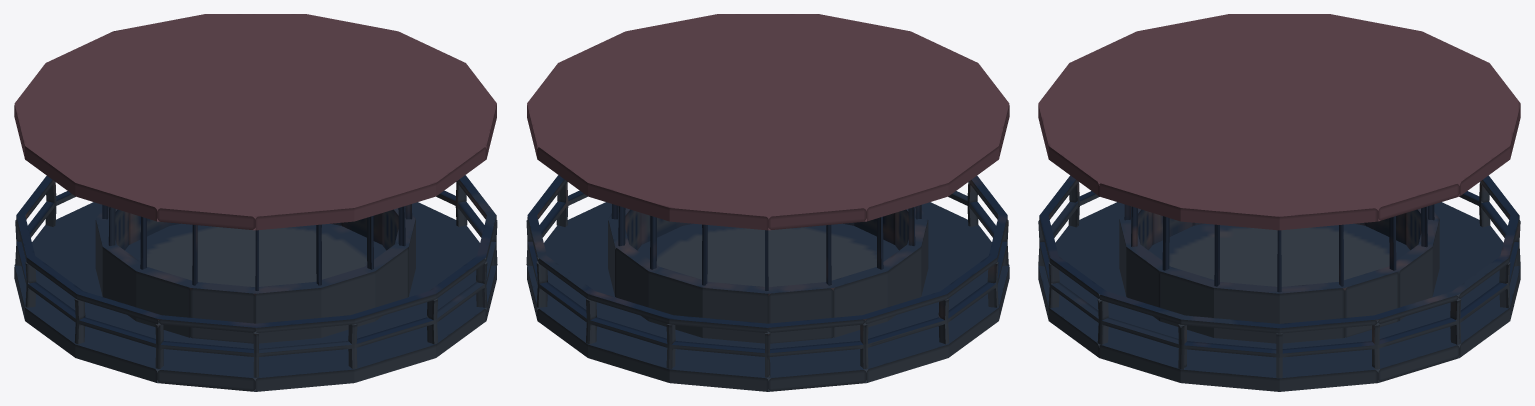
The model's file is top lighthouse.fbx.
3 renders of one model, left to right at view 1: azimuth 30°, elevation 25°; view 2: azimuth 150°, elevation 25°; view 3: azimuth 270°, elevation 25°, orthographic.
Visible parts, largest first — view 1: pCylinder6, pCylinder1, pCylinder2, pCylinder4, pCylinder3, pCylinder5; view 2: pCylinder6, pCylinder1, pCylinder2, pCylinder4, pCylinder3, pCylinder5; view 3: pCylinder6, pCylinder1, pCylinder2, pCylinder4, pCylinder3, pCylinder5.
Part boxes in pixels (x1,y1,x2,y2): pCylinder6: (14, 14, 496, 230); pCylinder1: (14, 202, 496, 391); pCylinder2: (95, 206, 415, 343); pCylinder4: (15, 182, 497, 377); pCylinder3: (16, 175, 496, 333); pCylinder5: (102, 204, 412, 290); pCylinder6: (527, 14, 1009, 230); pCylinder1: (527, 202, 1009, 391); pCylinder2: (608, 206, 928, 343); pCylinder4: (526, 182, 1008, 377); pCylinder3: (527, 175, 1007, 333); pCylinder5: (611, 204, 921, 290); pCylinder6: (1038, 14, 1520, 230); pCylinder1: (1038, 202, 1520, 391); pCylinder2: (1119, 206, 1439, 343); pCylinder4: (1038, 181, 1520, 377); pCylinder3: (1039, 175, 1519, 333); pCylinder5: (1124, 204, 1434, 292).
Bounding box in the file's own units: 445 × 179 × 447.
Materials: 1 (1 with a texture image).
